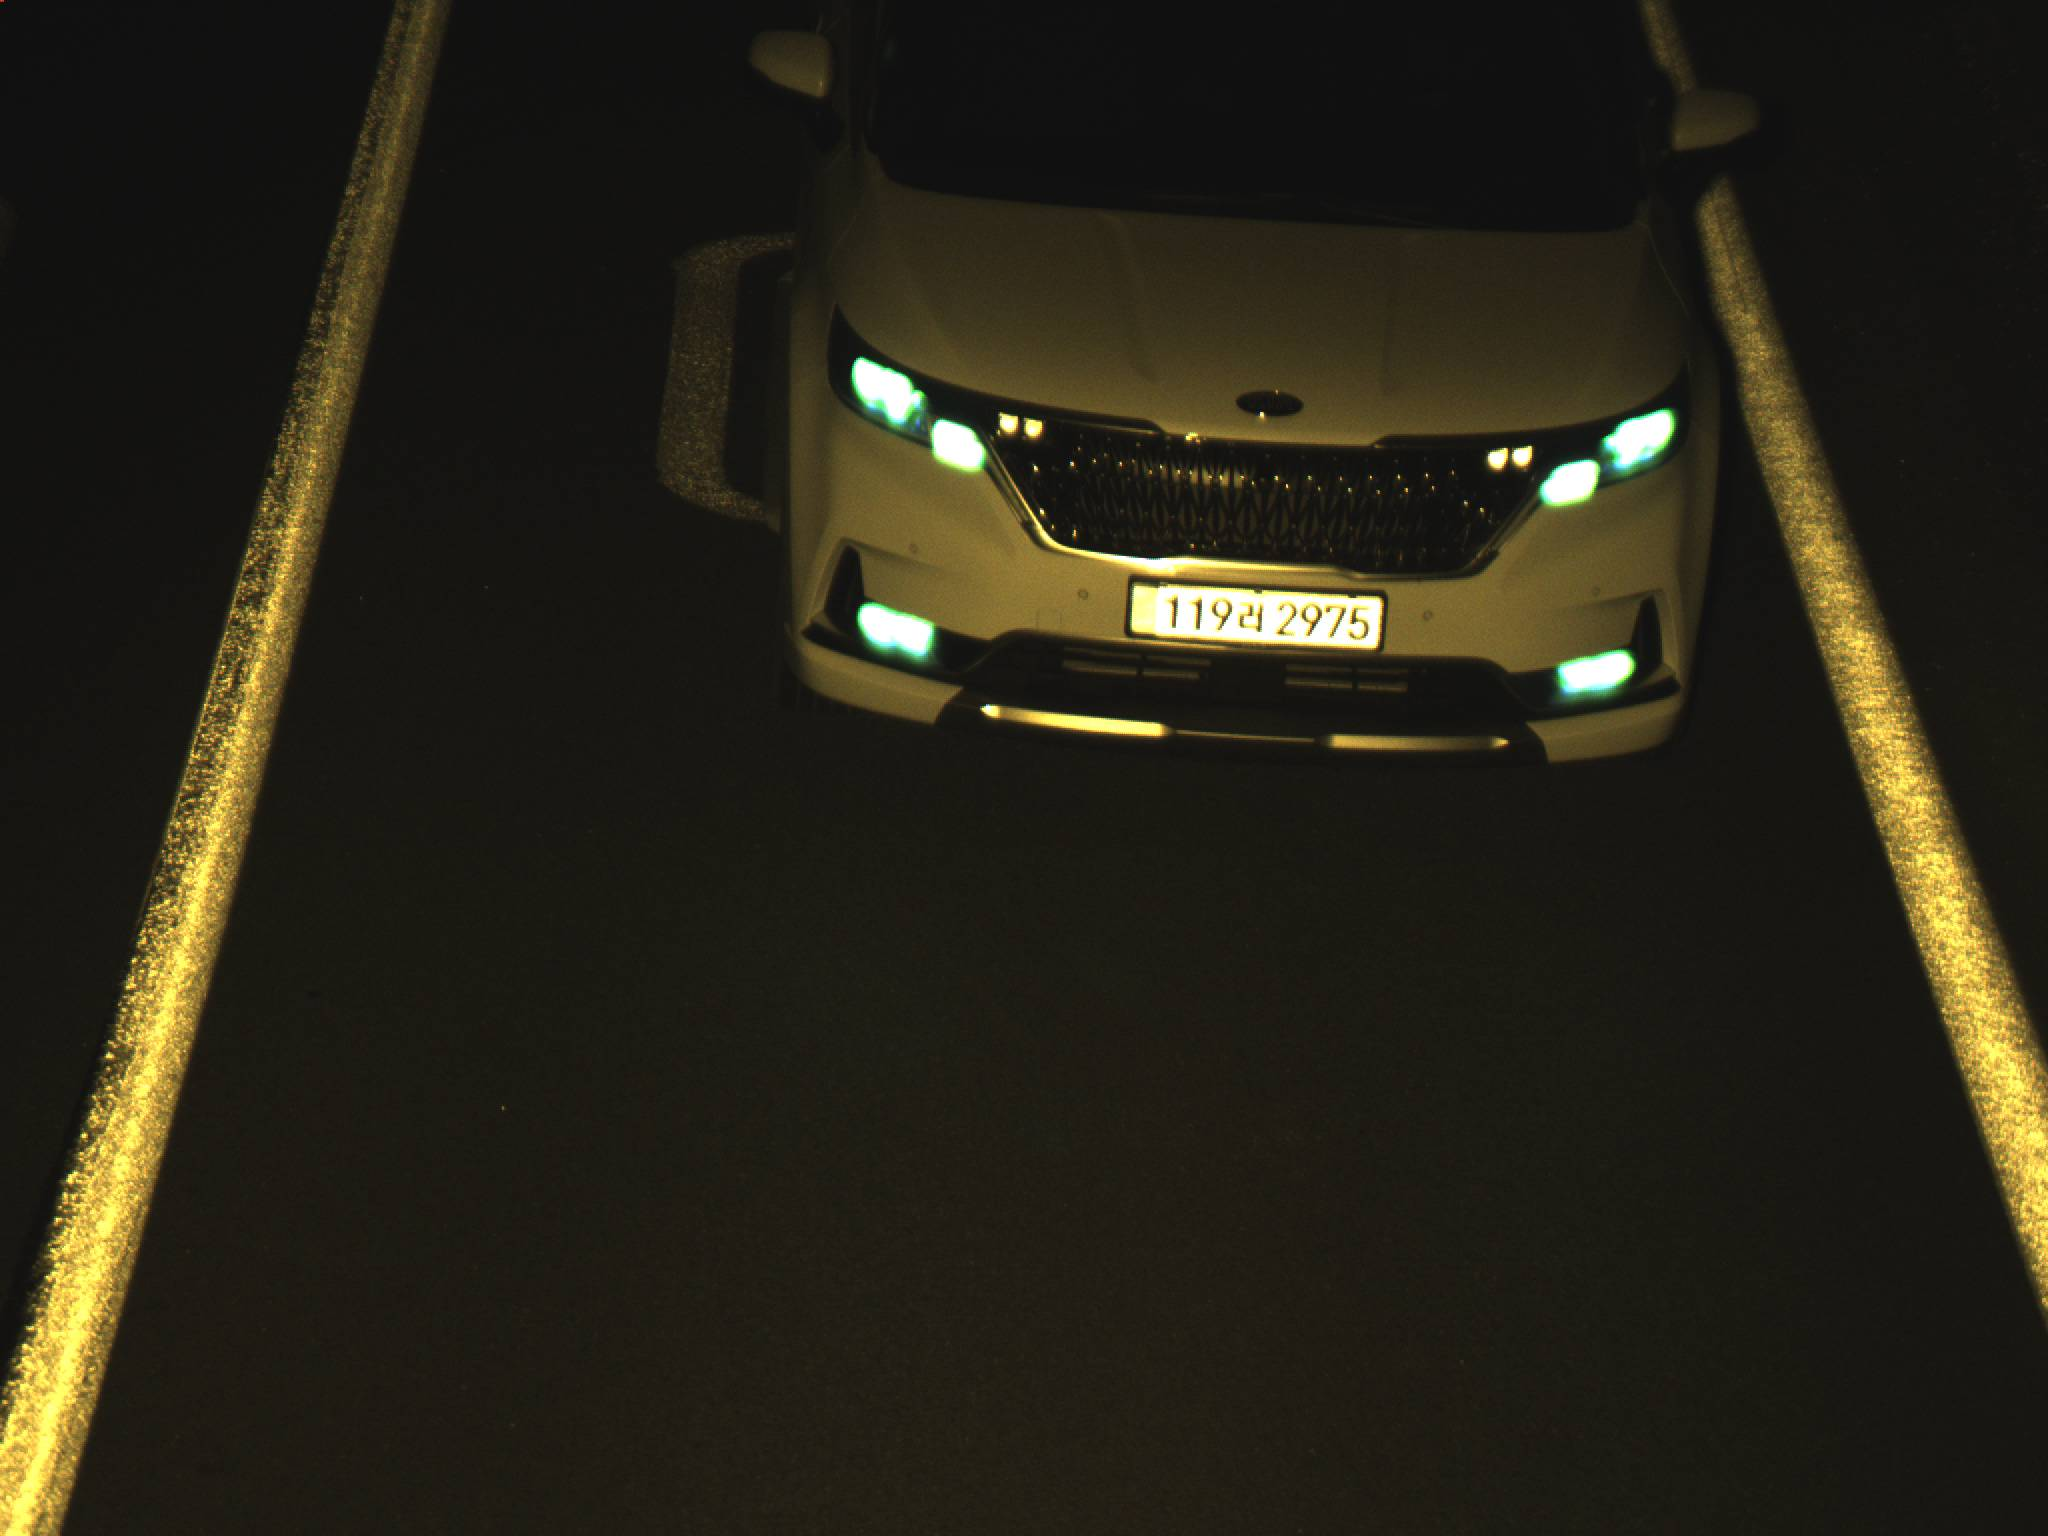car: (727, 2, 1784, 783)
plate: (1119, 574, 1387, 655)
